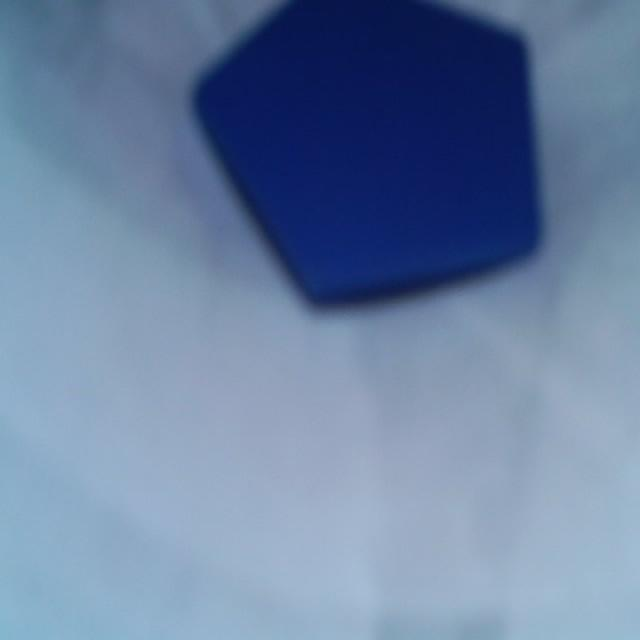pentagon: (197, 0, 541, 303)
